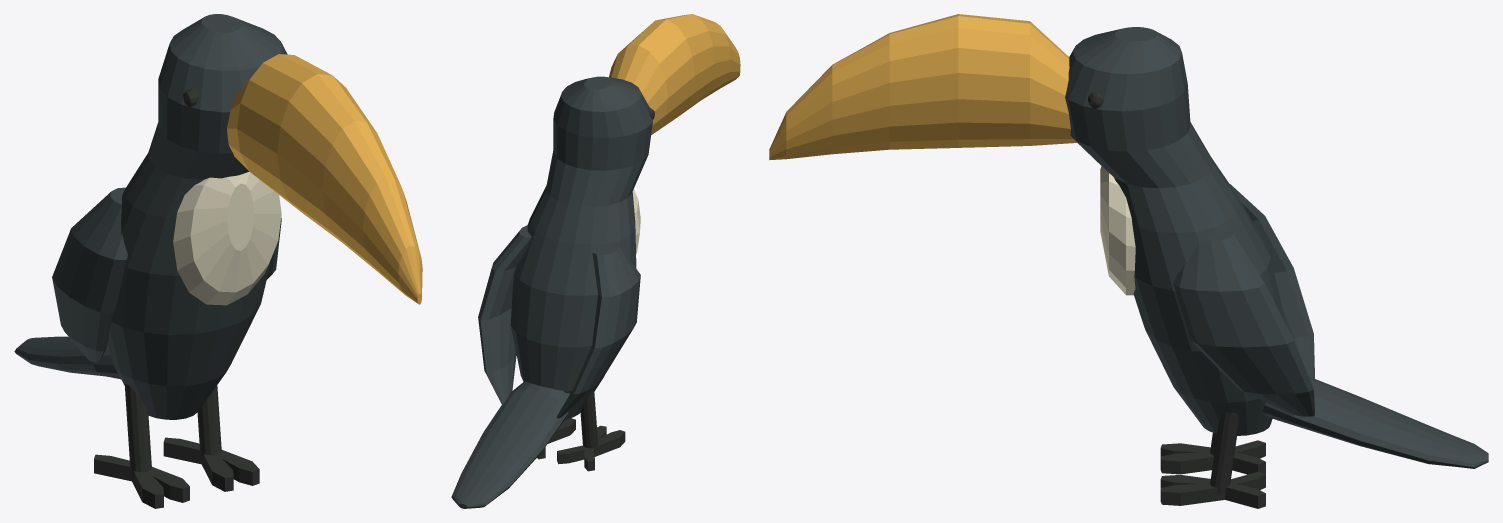
3 views of the same model, side by side, from view 1: azimuth 30°, elevation 25°; view 2: azimuth 150°, elevation 25°; view 3: azimuth 270°, elevation 25° (orthographic). The views are drawn at different scales.
Parts seen in each view (by area): view 1: WholeCompactLeaningBodyShortNeckAndToucanHead, WholeDeepHighKeelLongToucanBill, WholeConvexPaleToucanThroat, WholeCompactFoldedToucanWing0, WholeBroadLongRearToucanTail, WholeOpposedToeToucanGroundFoot1, WholeOpposedToeToucanGroundFoot0, WholeShortToucanLeg0, WholeShortToucanLeg1; view 2: WholeCompactLeaningBodyShortNeckAndToucanHead, WholeDeepHighKeelLongToucanBill, WholeBroadLongRearToucanTail, WholeCompactFoldedToucanWing0, WholeCompactFoldedToucanWing1, WholeOpposedToeToucanGroundFoot0, WholeShortToucanLeg0, WholeOpposedToeToucanGroundFoot1; view 3: WholeCompactLeaningBodyShortNeckAndToucanHead, WholeDeepHighKeelLongToucanBill, WholeCompactFoldedToucanWing1, WholeBroadLongRearToucanTail, WholeCompactFoldedToucanWing0, WholeConvexPaleToucanThroat, WholeOpposedToeToucanGroundFoot1, WholeOpposedToeToucanGroundFoot0, WholeShortToucanLeg1.
Part boxes in pixels (x1=…): WholeCompactLeaningBodyShortNeckAndToucanHead: x1=107, y1=14, x2=287, y2=419; WholeDeepHighKeelLongToucanBill: x1=227, y1=54, x2=422, y2=304; WholeConvexPaleToucanThroat: x1=173, y1=171, x2=281, y2=305; WholeCompactFoldedToucanWing0: x1=52, y1=187, x2=127, y2=362; WholeBroadLongRearToucanTail: x1=14, y1=336, x2=120, y2=379; WholeOpposedToeToucanGroundFoot1: x1=163, y1=437, x2=259, y2=491; WholeOpposedToeToucanGroundFoot0: x1=94, y1=454, x2=189, y2=508; WholeShortToucanLeg0: x1=124, y1=383, x2=151, y2=477; WholeShortToucanLeg1: x1=197, y1=385, x2=221, y2=460; WholeCompactLeaningBodyShortNeckAndToucanHead: x1=510, y1=76, x2=652, y2=419; WholeDeepHighKeelLongToucanBill: x1=609, y1=14, x2=740, y2=134; WholeBroadLongRearToucanTail: x1=451, y1=381, x2=569, y2=508; WholeCompactFoldedToucanWing0: x1=556, y1=247, x2=640, y2=418; WholeCompactFoldedToucanWing1: x1=478, y1=225, x2=532, y2=404; WholeOpposedToeToucanGroundFoot0: x1=557, y1=425, x2=625, y2=471; WholeShortToucanLeg0: x1=580, y1=391, x2=598, y2=452; WholeOpposedToeToucanGroundFoot1: x1=537, y1=418, x2=575, y2=459; WholeCompactLeaningBodyShortNeckAndToucanHead: x1=1065, y1=27, x2=1285, y2=435; WholeDeepHighKeelLongToucanBill: x1=769, y1=14, x2=1076, y2=160; WholeCompactFoldedToucanWing1: x1=1173, y1=230, x2=1314, y2=416; WholeBroadLongRearToucanTail: x1=1263, y1=376, x2=1488, y2=468; WholeCompactFoldedToucanWing0: x1=1230, y1=184, x2=1314, y2=378; WholeConvexPaleToucanThroat: x1=1100, y1=166, x2=1135, y2=295; WholeOpposedToeToucanGroundFoot1: x1=1160, y1=472, x2=1265, y2=508; WholeOpposedToeToucanGroundFoot0: x1=1160, y1=440, x2=1265, y2=474; WholeShortToucanLeg1: x1=1210, y1=412, x2=1238, y2=494.
Bounding box in the file's own units: 0.71 × 1.79 × 2.51.
